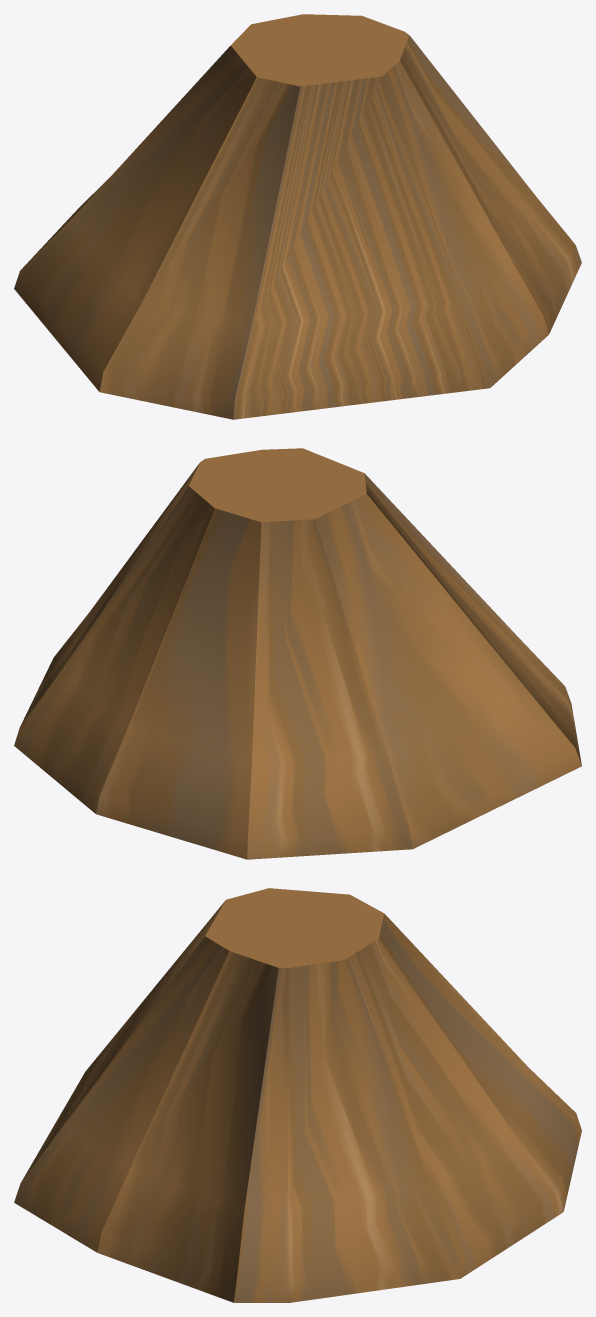
Rendered from generic_mountain_volcano_col.fbx.
3 views of the same model, one above another, from view 1: azimuth 30°, elevation 25°; view 2: azimuth 150°, elevation 25°; view 3: azimuth 270°, elevation 25° (orthographic). The views are drawn at different scales.
Visible parts, largest first — view 1: generic_mountain_volcano_col; view 2: generic_mountain_volcano_col; view 3: generic_mountain_volcano_col.
Boxes of the visible parts, <box> form: generic_mountain_volcano_col: <box>14,14,581,419</box>; generic_mountain_volcano_col: <box>14,448,581,859</box>; generic_mountain_volcano_col: <box>14,888,581,1302</box>.
Size of the model in its own units: 0.9375 by 0.45 by 0.8966.
